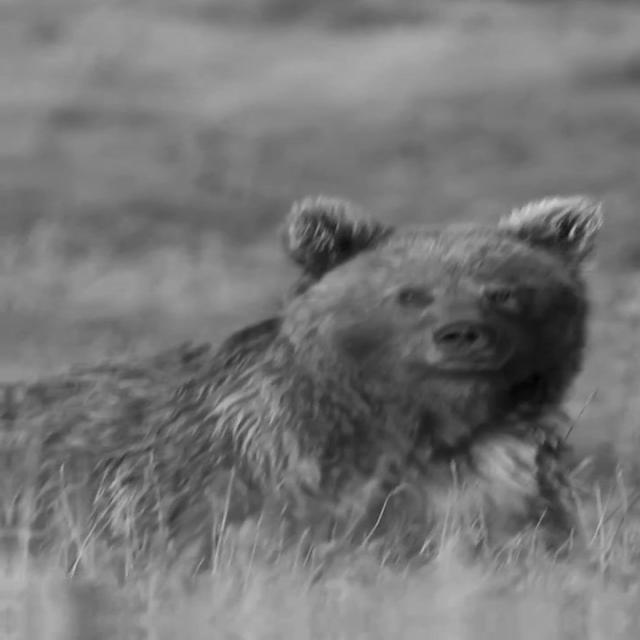Bear: (1, 193, 604, 585)
